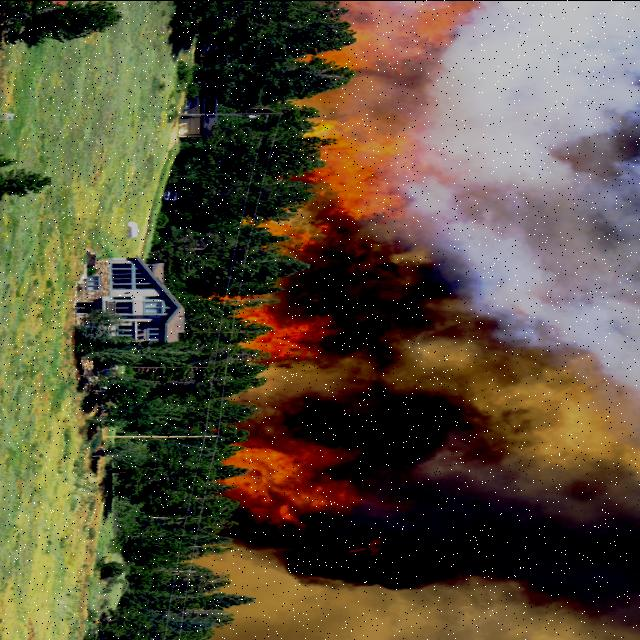api: (316, 131, 405, 216), (234, 443, 338, 505), (241, 319, 325, 367), (412, 2, 462, 45), (259, 221, 327, 251), (235, 299, 269, 325), (306, 117, 347, 137)
asap: (449, 3, 640, 640), (342, 220, 452, 512), (240, 511, 448, 640), (340, 51, 455, 121), (252, 370, 360, 440), (277, 249, 373, 321)
